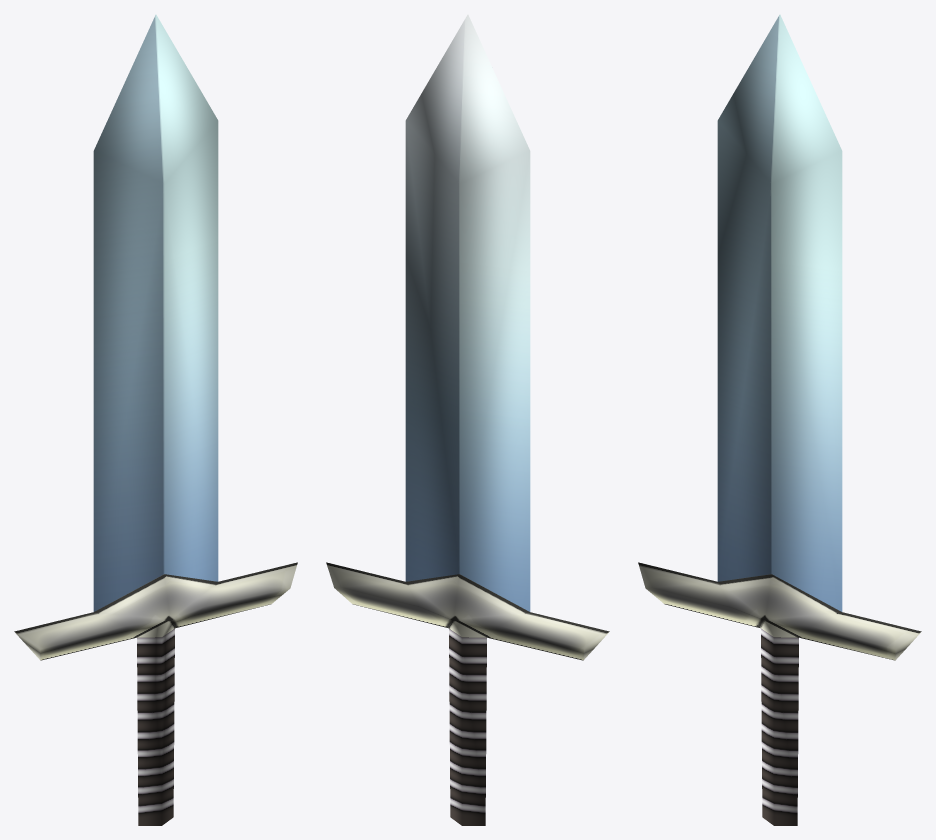
File: weapon_SmallSword_solo.FBX
3 views of the same model, side by side, from view 1: azimuth 30°, elevation 25°; view 2: azimuth 150°, elevation 25°; view 3: azimuth 330°, elevation 25° (orthographic).
Parts seen in each view (by area): view 1: SmallSword_mesh; view 2: SmallSword_mesh; view 3: SmallSword_mesh.
Part boxes in pixels (<box>): SmallSword_mesh: <box>14,14,297,825</box>; SmallSword_mesh: <box>326,14,609,825</box>; SmallSword_mesh: <box>638,14,921,825</box>.
Size of the model in its own units: 36.94 by 100 by 6.56.
